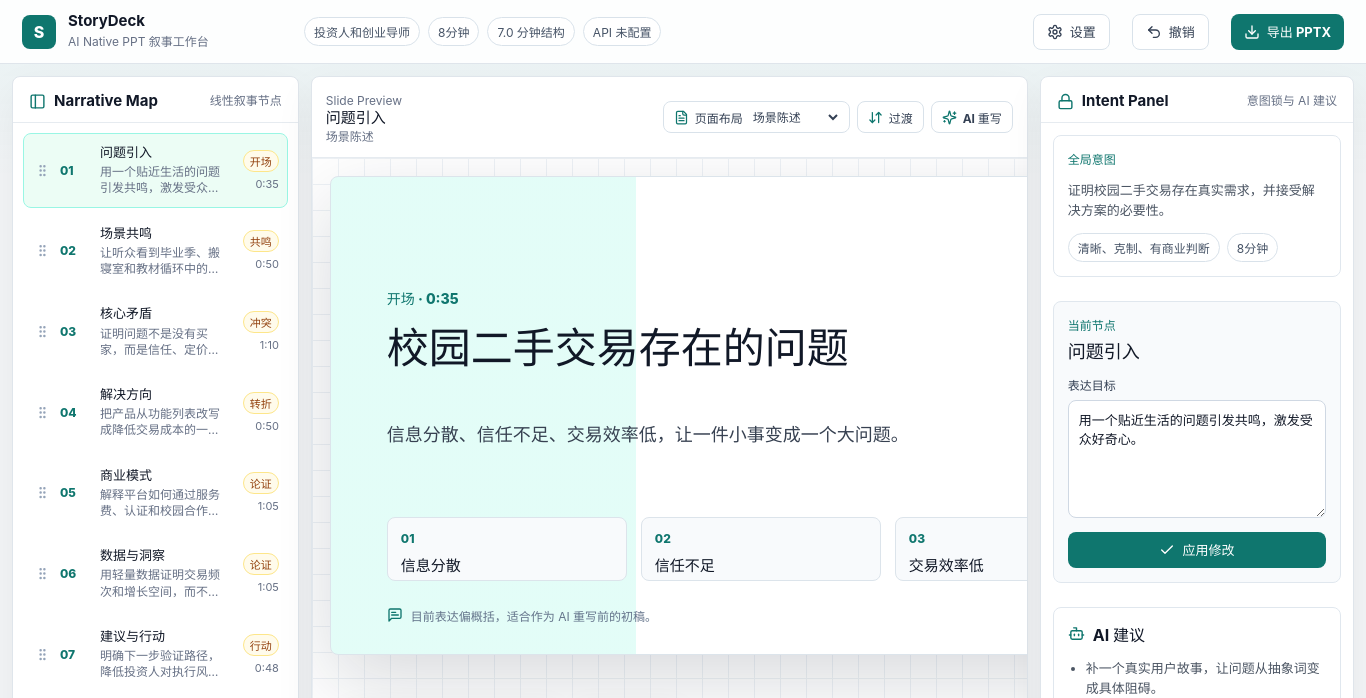
StoryDeck application shell › shows a node-level AI rewrite error when API settings are missing
Replace the text in the text box labelled "表达目标" with "用一个具体失败交易故事开场" at (1197, 459), box [1068, 400, 1326, 518]
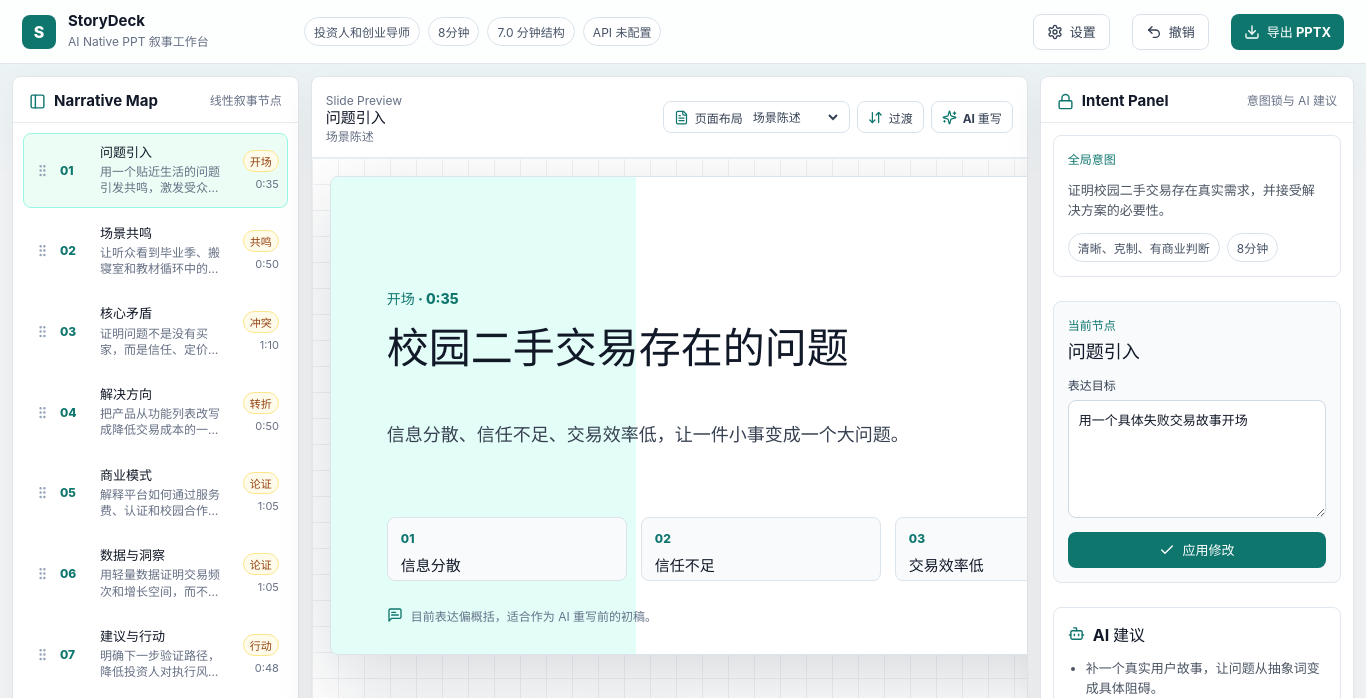
Click the button "AI 重写".
click(972, 117)  # box [931, 101, 1013, 133]
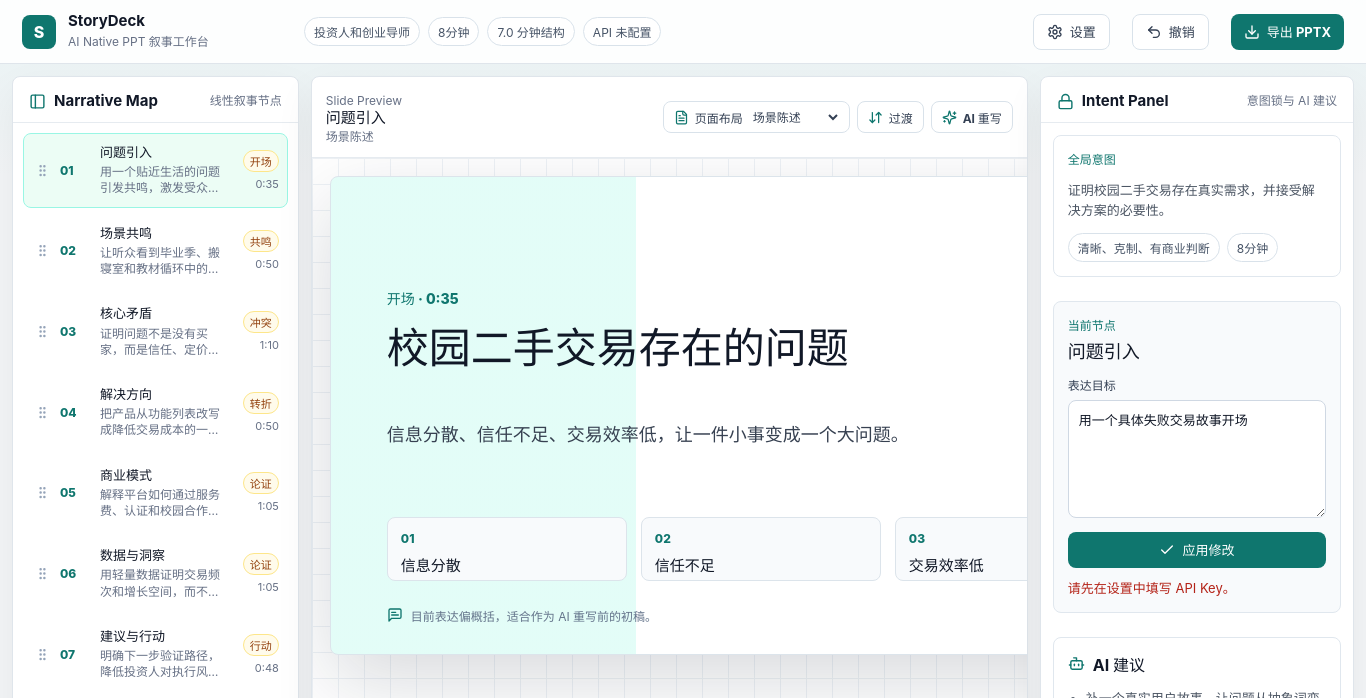
Result: the text "请先在设置中填写 API Key。" is shown at [1068, 580, 1236, 596]
